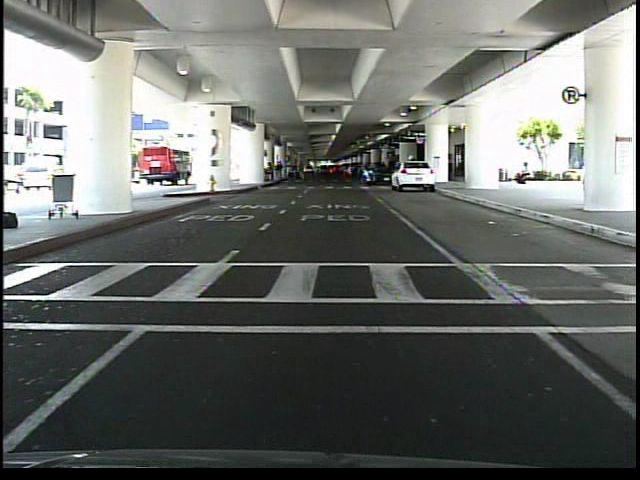person: (509, 159, 534, 190)
